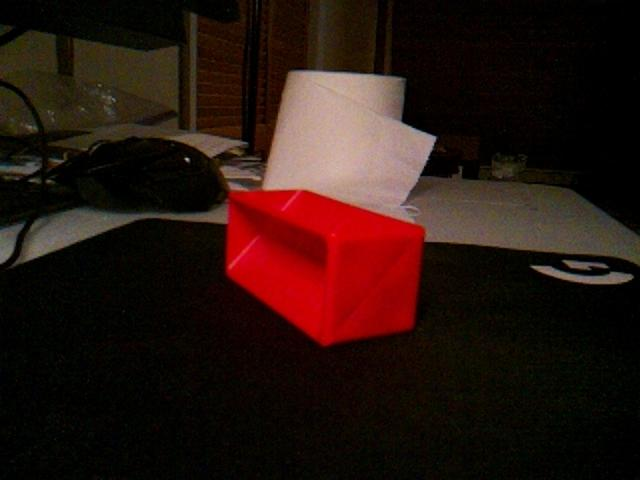red: (223, 187, 426, 348)
